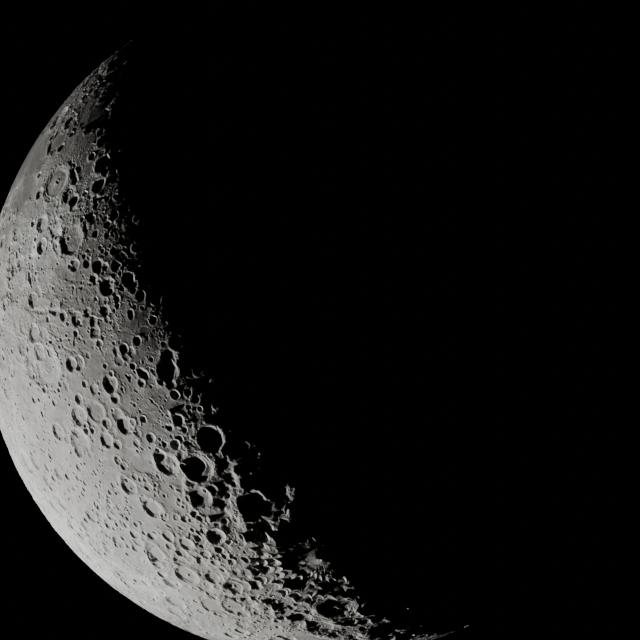crater: (310, 594, 368, 632), (178, 451, 224, 486), (232, 488, 268, 528), (194, 421, 228, 456), (58, 221, 88, 259), (152, 446, 184, 480), (155, 344, 181, 384), (44, 164, 70, 197), (117, 268, 141, 301), (94, 274, 121, 302), (140, 496, 168, 522), (188, 485, 214, 512), (204, 524, 228, 552), (92, 152, 114, 179), (68, 403, 91, 428), (87, 401, 109, 424), (100, 373, 122, 395), (118, 474, 138, 498), (62, 354, 80, 377), (186, 388, 204, 411), (89, 255, 108, 275), (168, 409, 185, 431), (116, 416, 134, 436), (114, 338, 132, 358), (33, 215, 50, 236), (166, 386, 182, 405), (98, 301, 113, 321), (36, 238, 48, 262), (100, 431, 115, 450), (120, 306, 137, 321), (134, 374, 148, 392), (86, 314, 101, 328), (142, 429, 158, 442), (130, 333, 142, 350), (147, 312, 160, 327), (128, 358, 140, 372)
